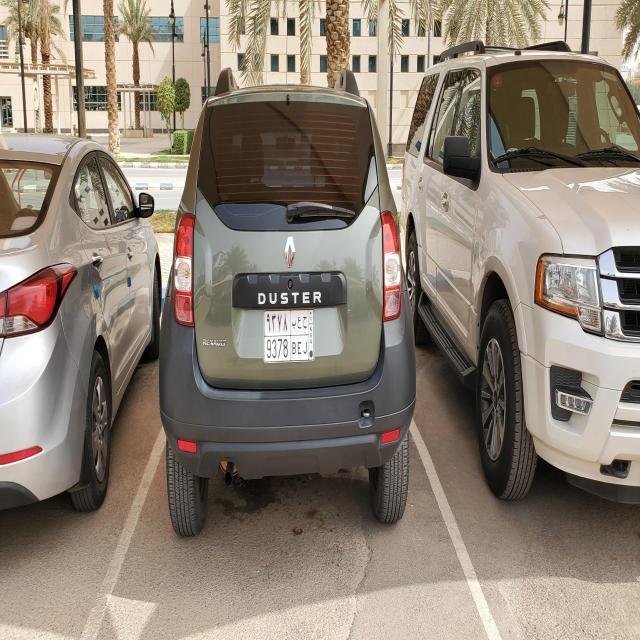license_plate: (262, 308, 316, 364)
